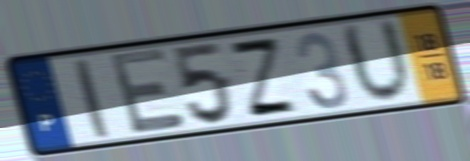3: (294, 29, 350, 111)
5: (166, 39, 239, 127)
E: (105, 45, 189, 139)
I: (69, 55, 113, 142)
U: (336, 15, 416, 107)
Z: (224, 36, 302, 120)
